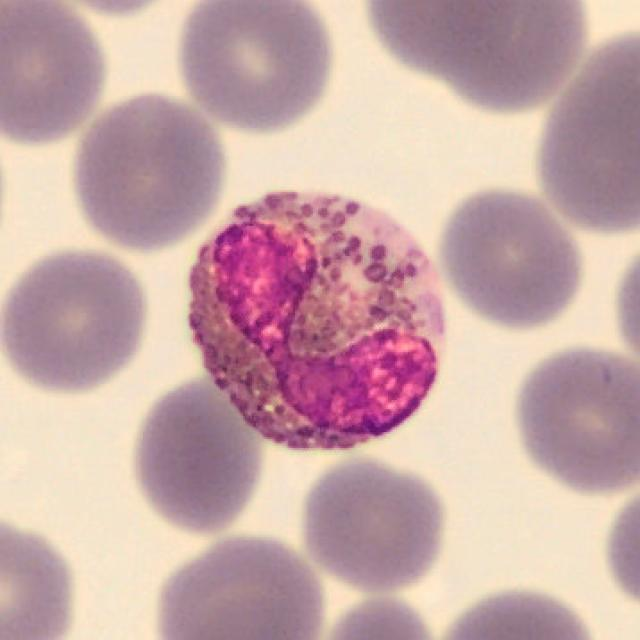Eosinofilo: (189, 194, 442, 448)
